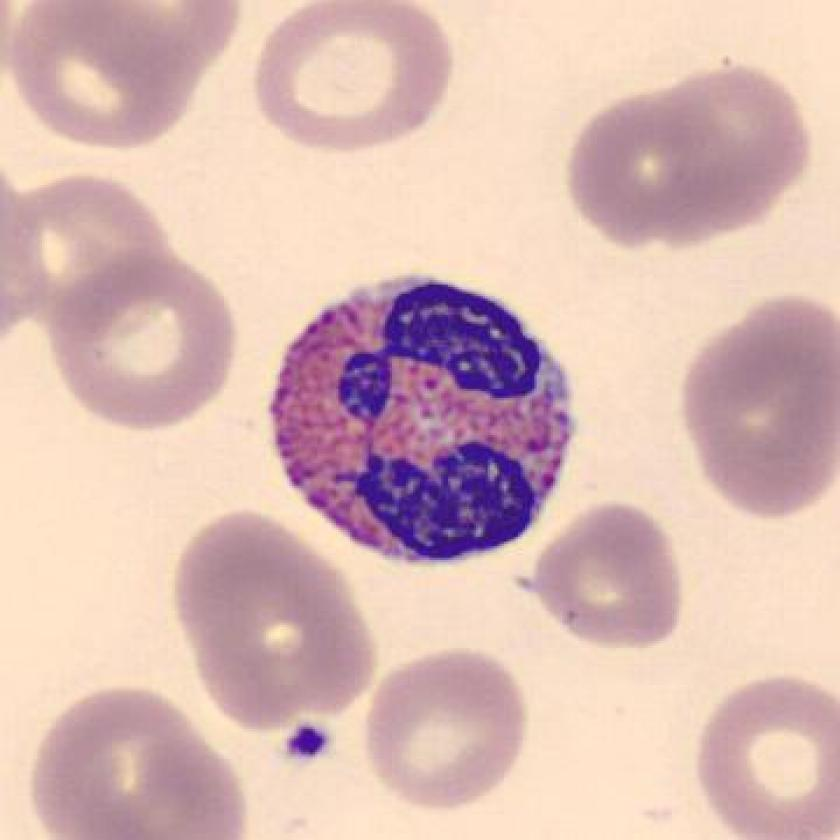eosinophil: (256, 258, 578, 570)
